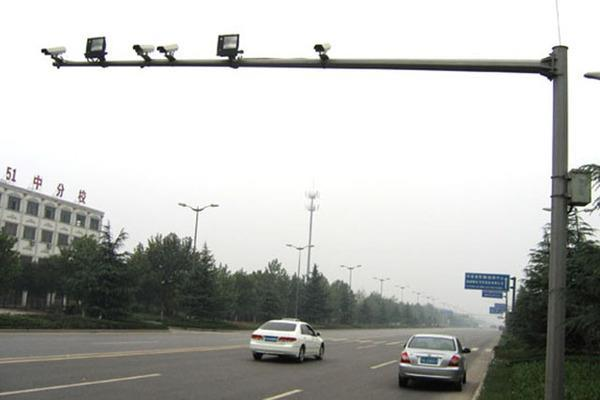camera: (128, 40, 152, 65), (157, 41, 181, 63), (41, 43, 66, 63), (314, 43, 332, 67)
car: (397, 332, 466, 390), (248, 318, 326, 362)
sign: (465, 271, 510, 291)
